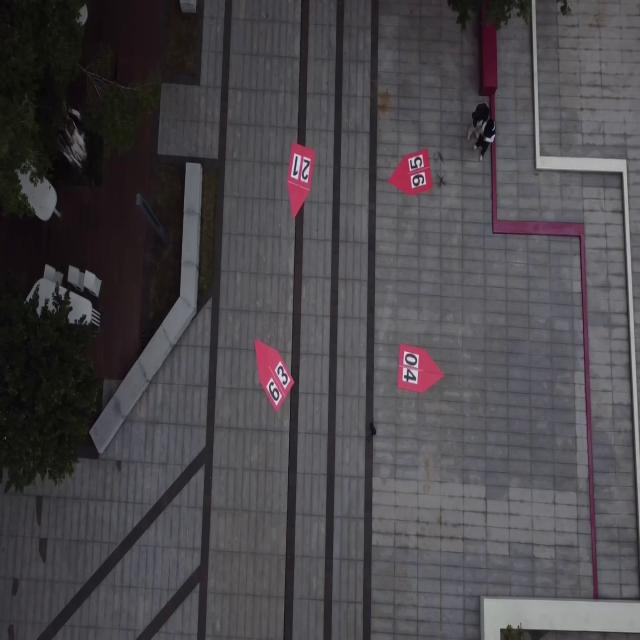-sign-: (255, 339, 294, 413), (398, 344, 444, 394), (287, 140, 315, 219), (389, 149, 433, 196)
